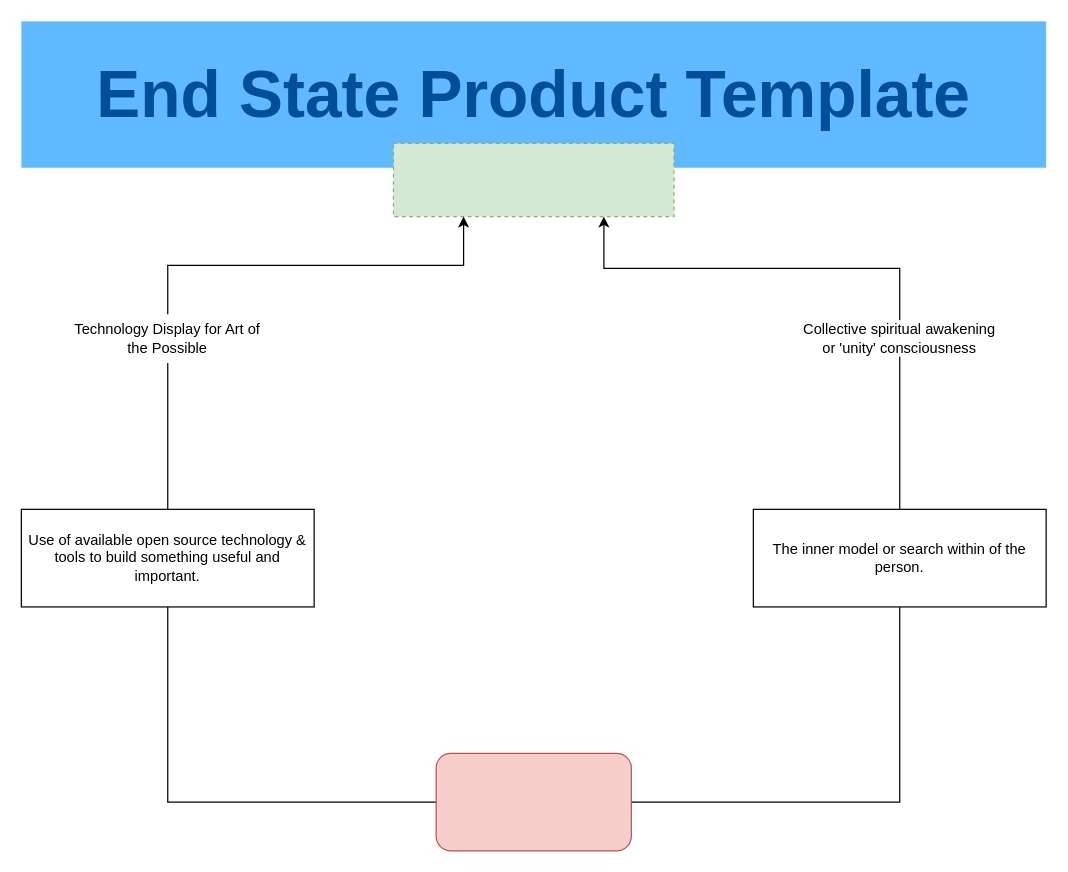
The diagram is 1068 pixels wide and 872 high, and some of its shapes have lost their labels. The box of each missing label's shape, as (x1, y1, x2, y2) in pixels:
An exemplar Project: (392, 142, 674, 217)
As Is Current State: (435, 752, 631, 851)
